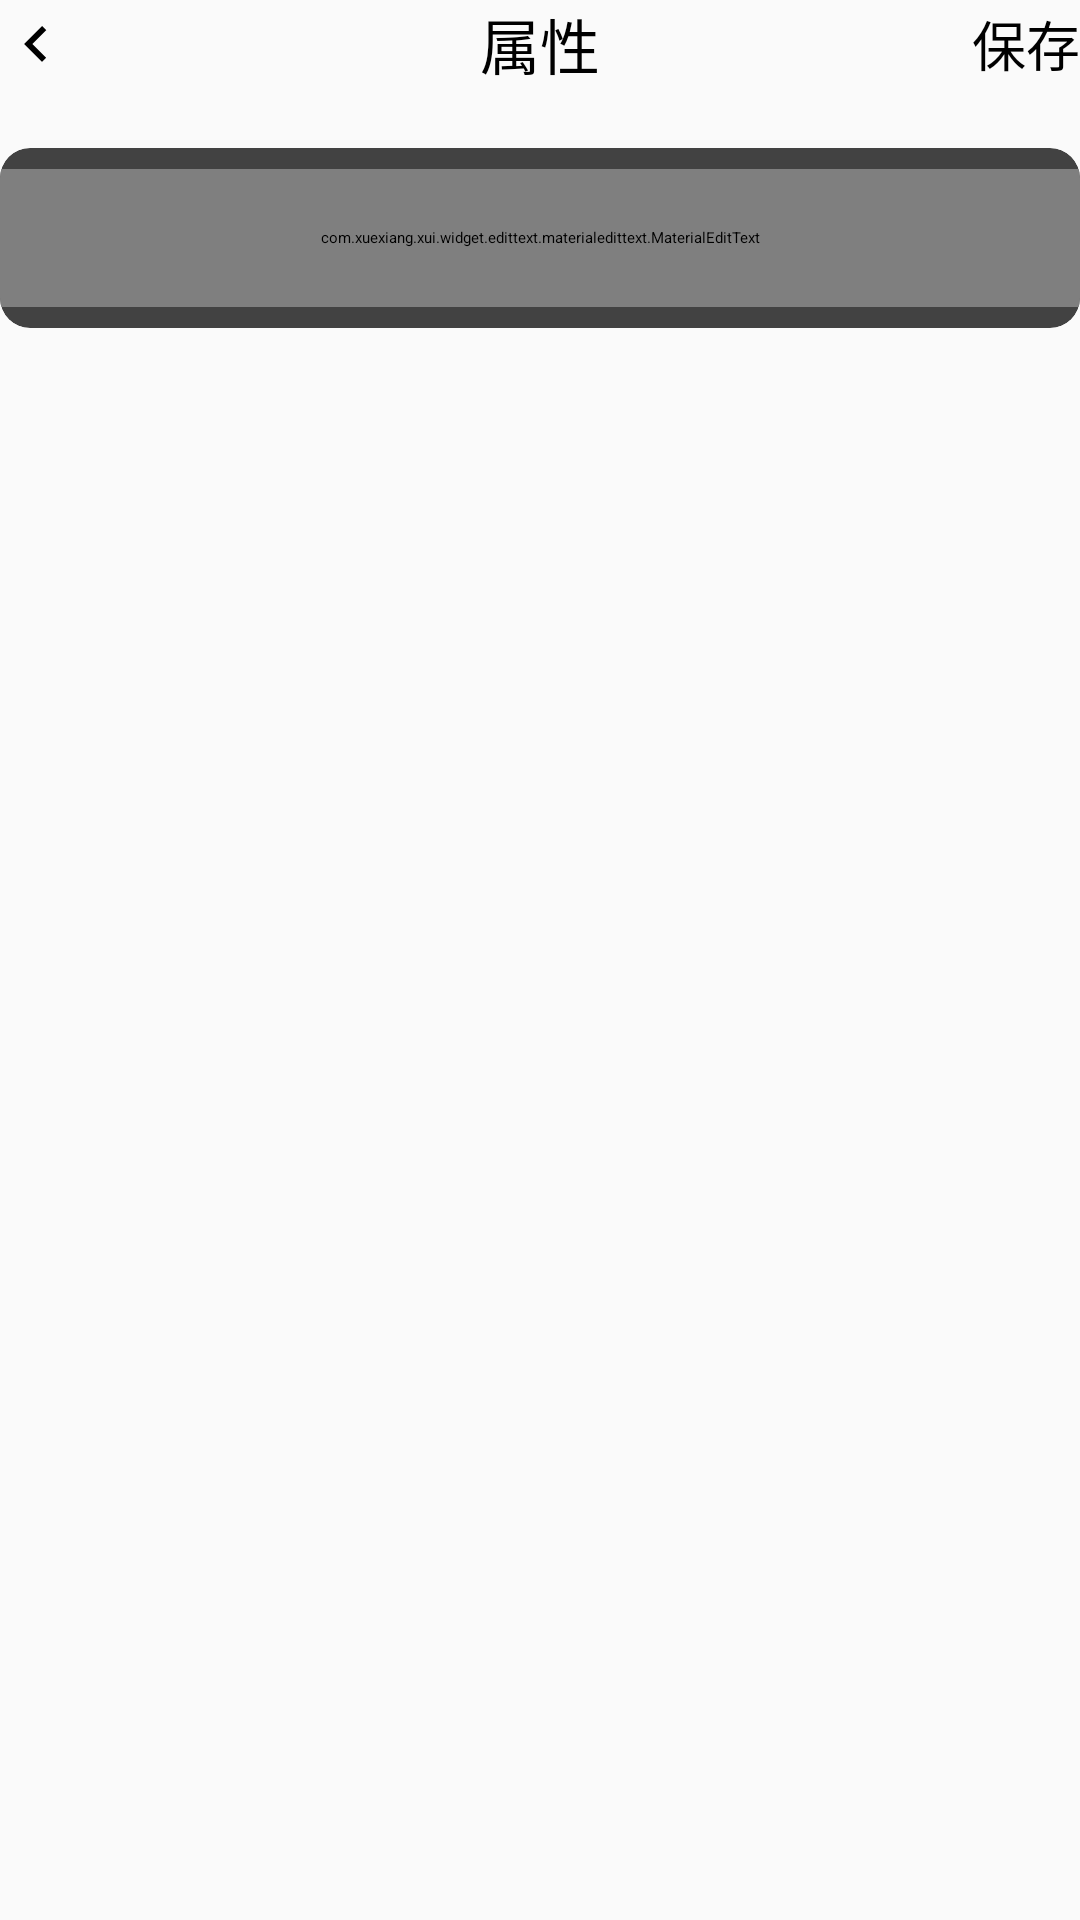

Locate icon controls on the screen. Image size 1080 x 1920, boxes as (x1, y1, x2, y2).
arrow left: (24, 26, 46, 62)
